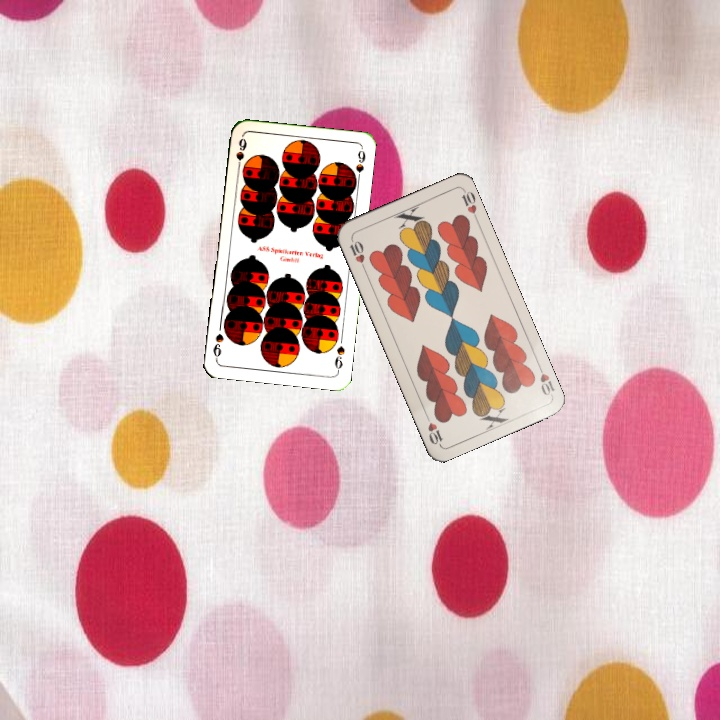H10: (346, 234, 369, 273), (534, 360, 557, 398)
S9: (232, 134, 249, 174), (330, 342, 347, 374)
